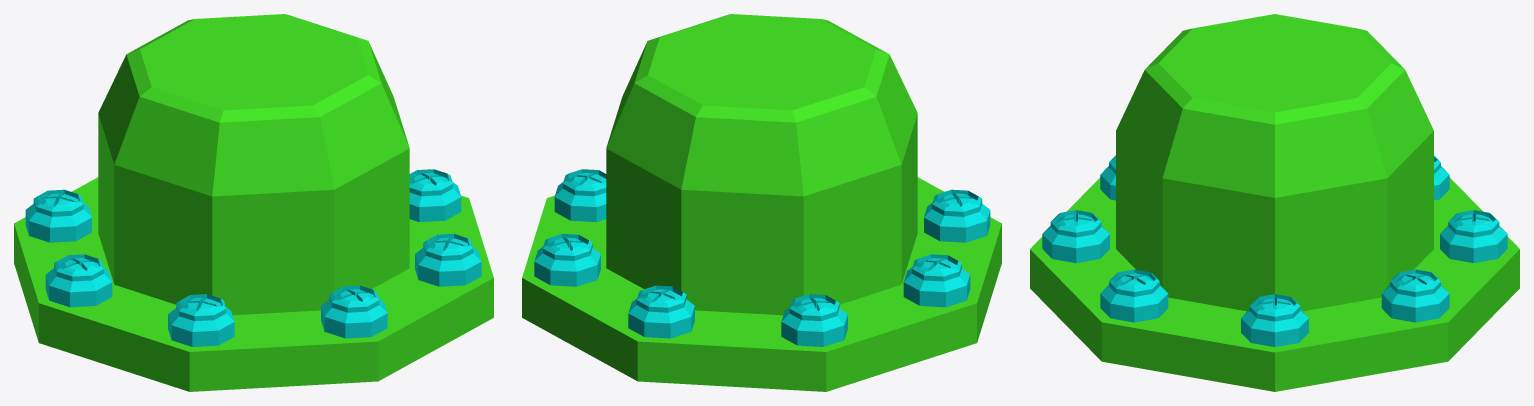
Rendered from pipeBase_sm 1.fbx.
3 renders of one model, left to right at view 1: azimuth 30°, elevation 25°; view 2: azimuth 150°, elevation 25°; view 3: azimuth 270°, elevation 25°, orthographic.
Parts seen in each view (by area): view 1: pipeBase_sm; view 2: pipeBase_sm; view 3: pipeBase_sm.
Part boxes in pixels (bbox=[...]): pipeBase_sm: bbox=[14, 14, 493, 391]; pipeBase_sm: bbox=[522, 14, 1001, 391]; pipeBase_sm: bbox=[1030, 14, 1519, 391].
Bounding box in the file's own units: 197 × 100 × 197.
